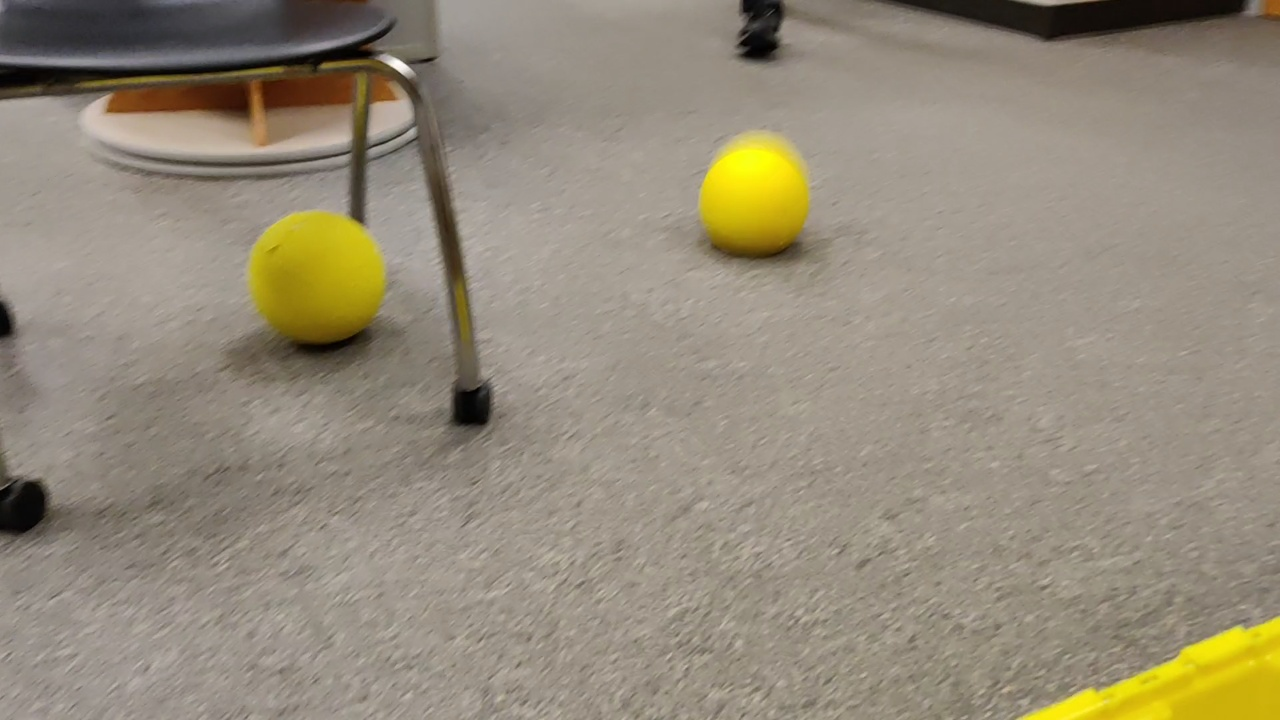Ball: (244, 212, 388, 351), (696, 141, 811, 256)
